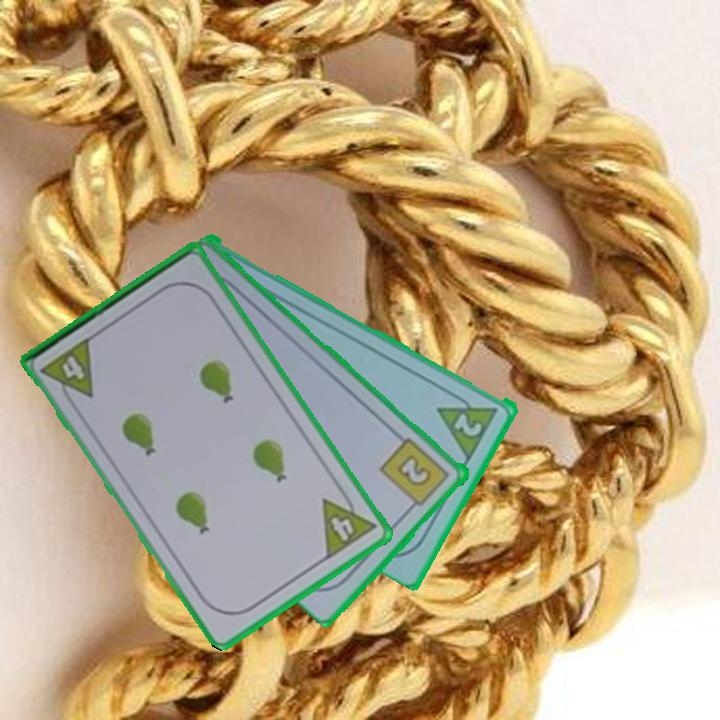2b: (377, 434, 453, 514)
2p: (451, 409, 486, 440)
4p: (318, 484, 379, 563), (37, 333, 97, 410)
